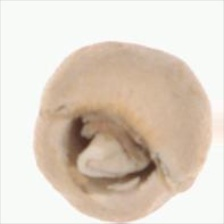L3: (62, 110, 157, 189)
L4: (34, 42, 212, 222)
